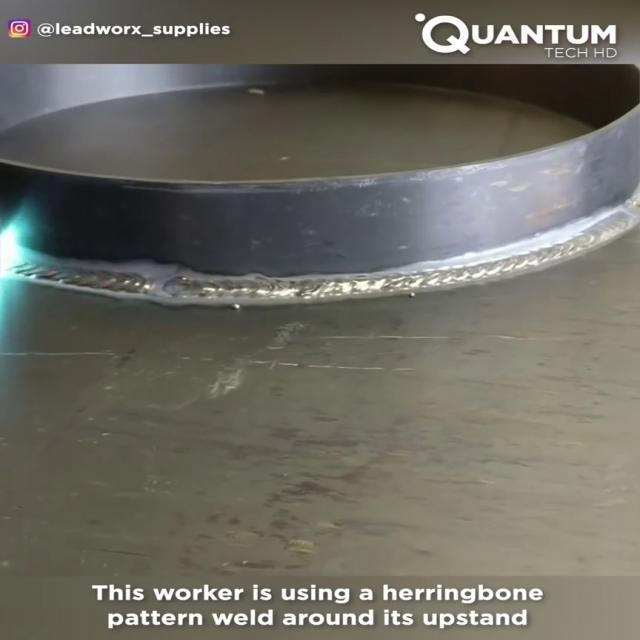Good Weld: (41, 258, 581, 304)
